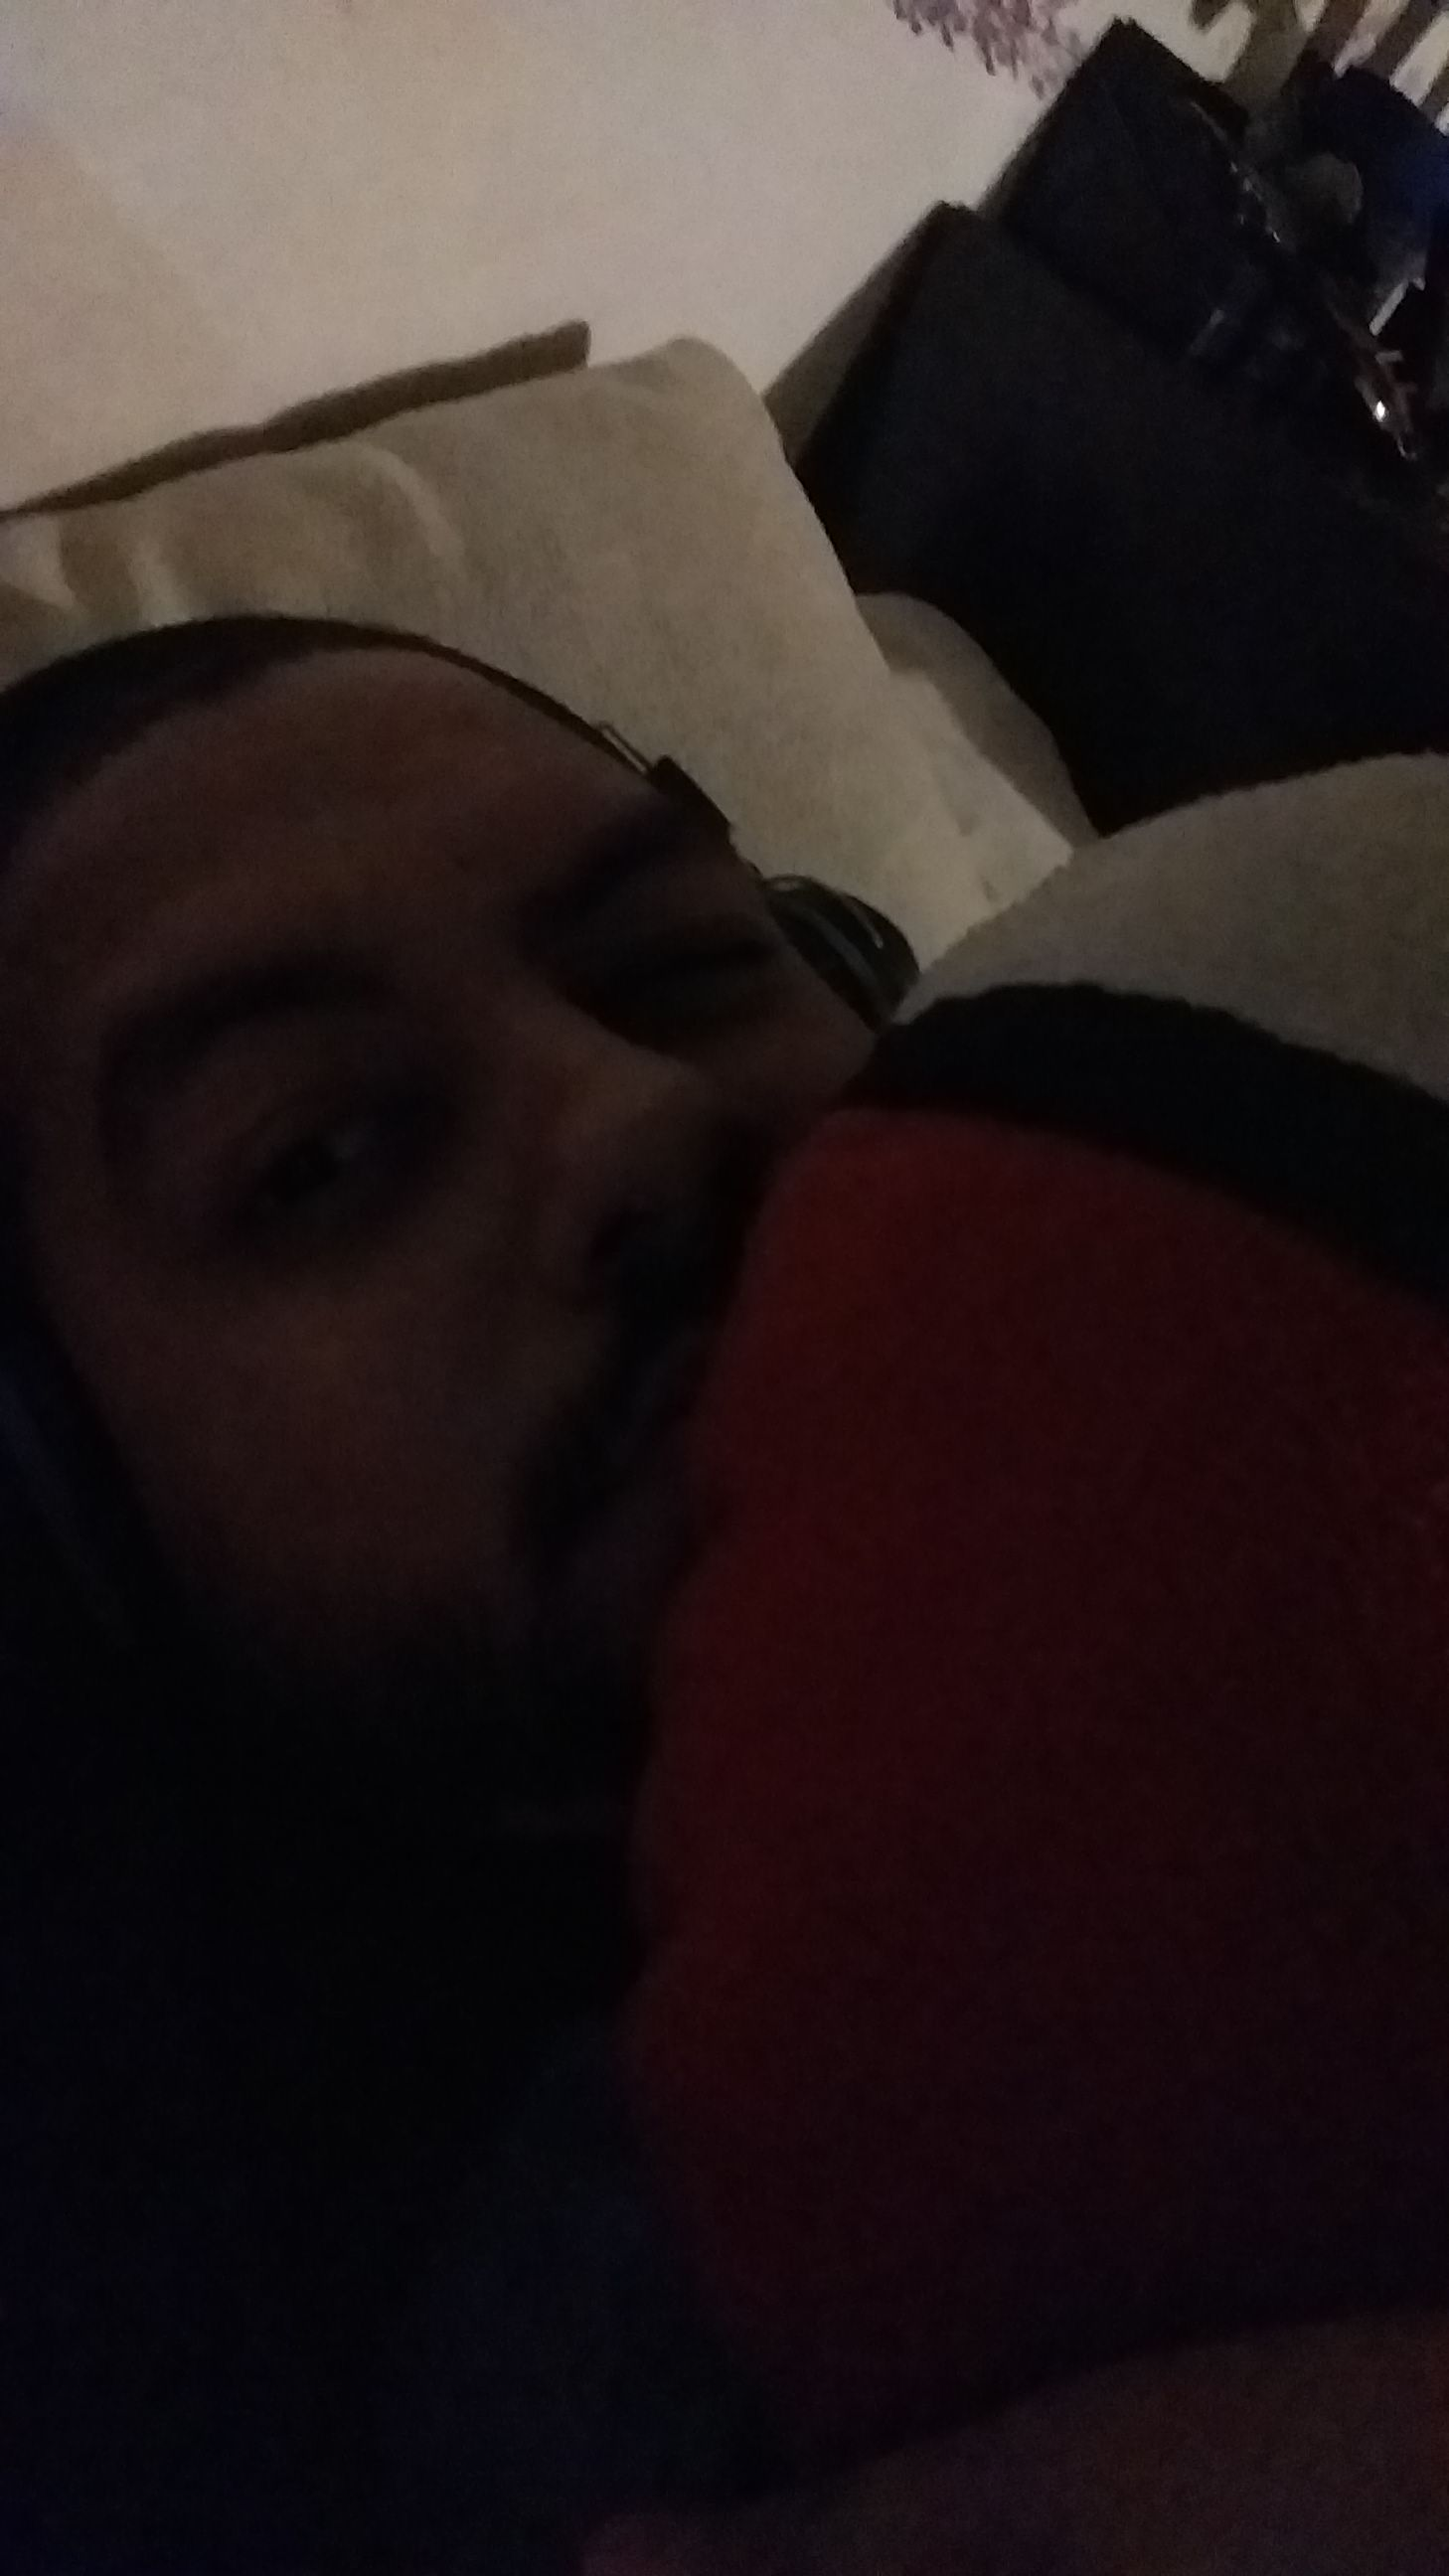Yoshi: (42, 586, 906, 1640)
